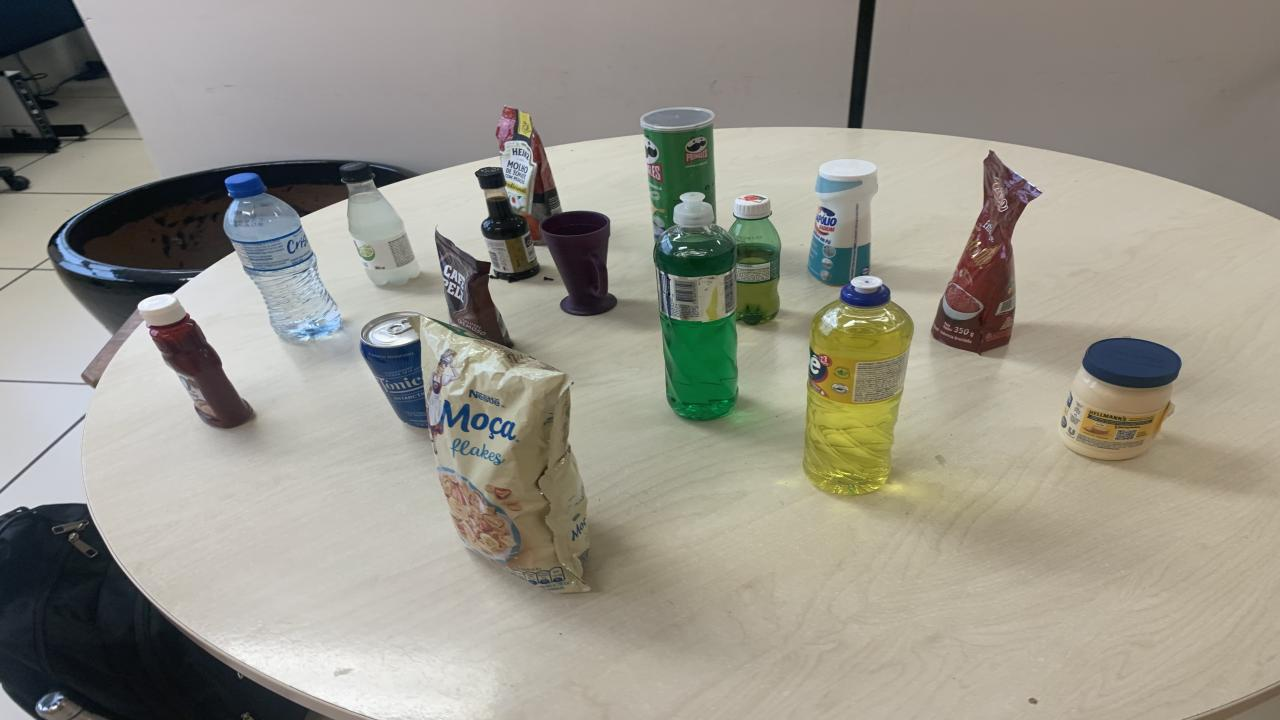Cleaner-Cleanup_Items: (808, 159, 878, 285)
Coffee-Pantry_Items: (435, 231, 512, 347)
Detergent-Cleanup_Items: (802, 276, 912, 495), (652, 193, 738, 420)
English_Sauce-Pantry_Items: (475, 167, 540, 281)
Flakes-Snacks: (415, 317, 590, 592)
Guarana-Drinks: (730, 195, 780, 324)
Ketchup-Pantry_Items: (138, 294, 252, 428)
Mayonnaise-Pantry_Items: (1060, 338, 1180, 459)
Pringles-Snacks: (640, 107, 715, 238)
Soda-Drinks: (340, 163, 420, 285)
Tomato_Sauce-Pantry_Items: (932, 152, 1040, 352), (495, 107, 562, 244)
Tonic-Drinks: (360, 311, 428, 428)
Water_Bottle-Drinks: (222, 172, 340, 341)
